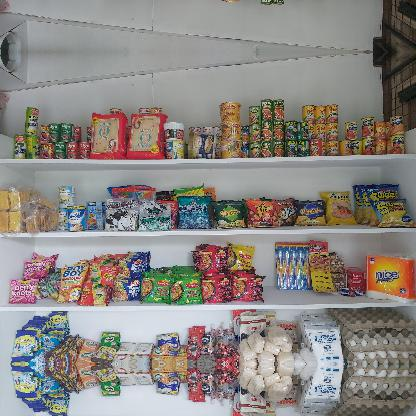Lady-s-Choice: (187, 132, 215, 158)
